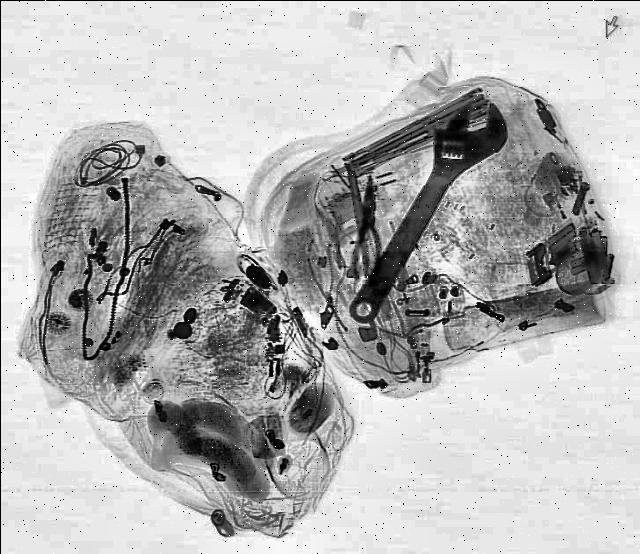Pliers: (348, 175, 384, 281)
Wrench: (320, 87, 522, 334)
